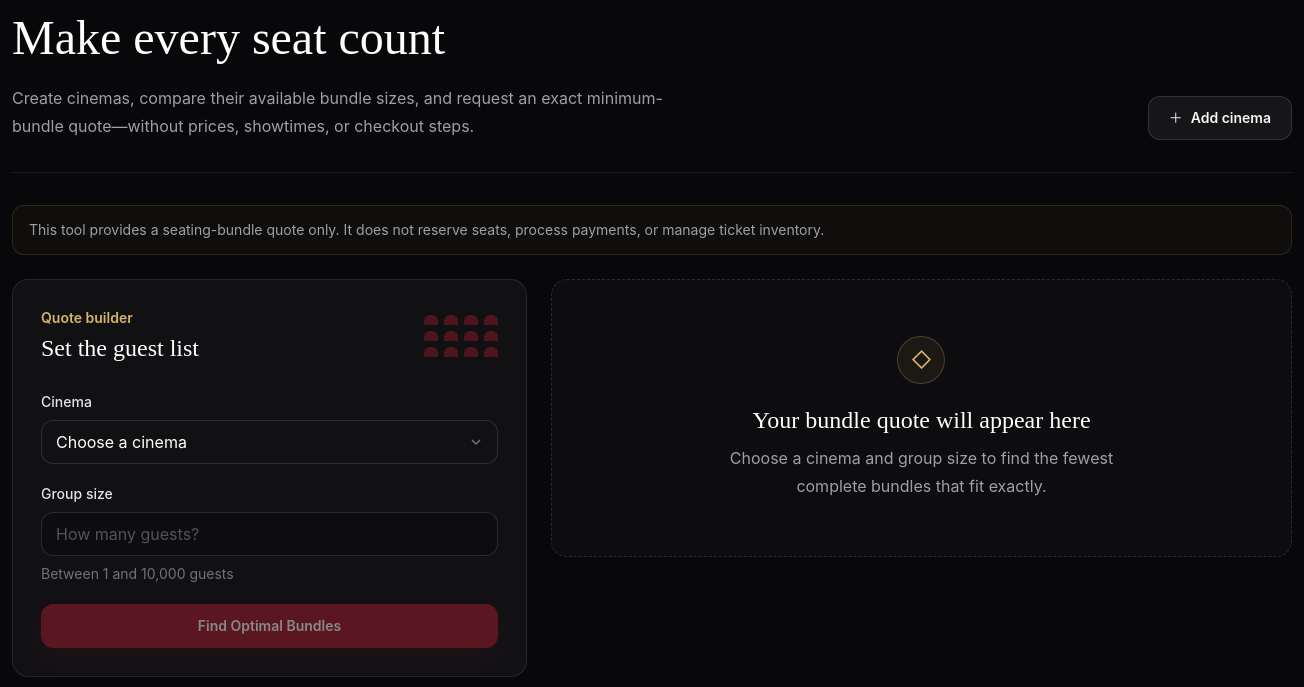
Test case: BookingPage › rejects an out-of-range group size before requesting a quote
Step 1. Select "Cinema A" in the dropdown labelled "Cinema" → (270, 442), box left=41, top=420, right=498, bottom=464
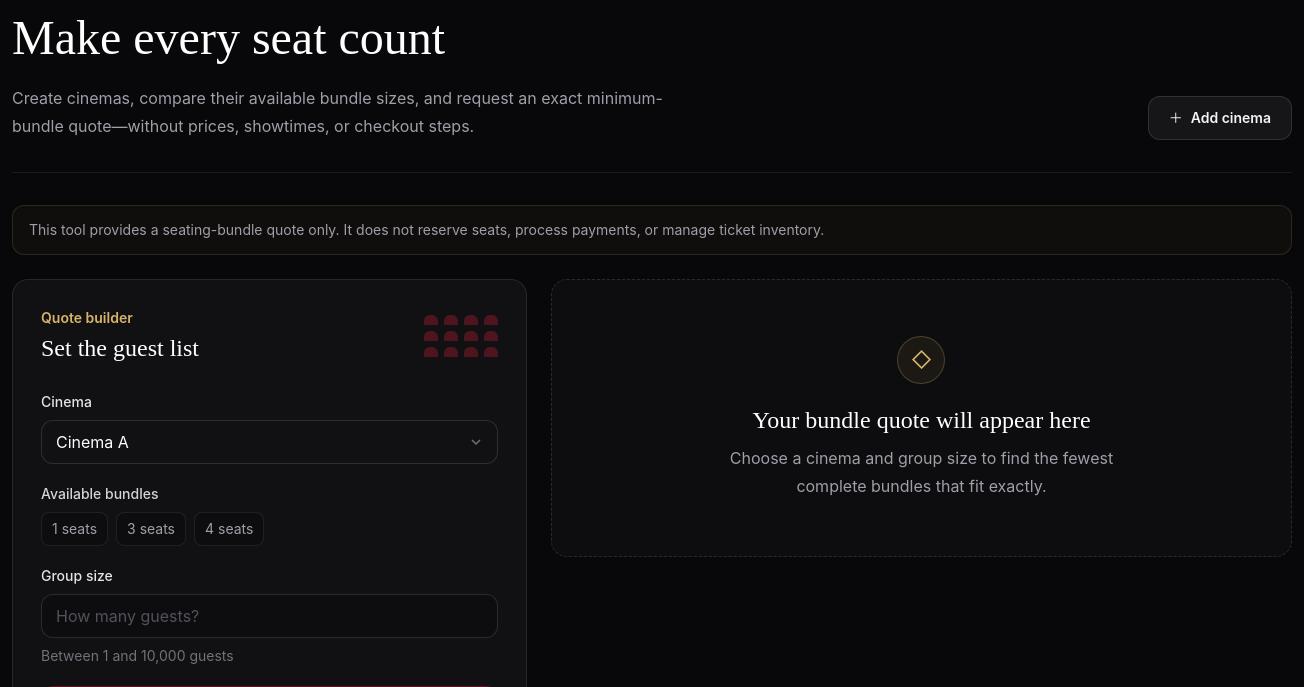
Step 2. Type "10001" into the number field labelled "Group size" → (270, 616), box left=41, top=594, right=498, bottom=638
(page scrolled)
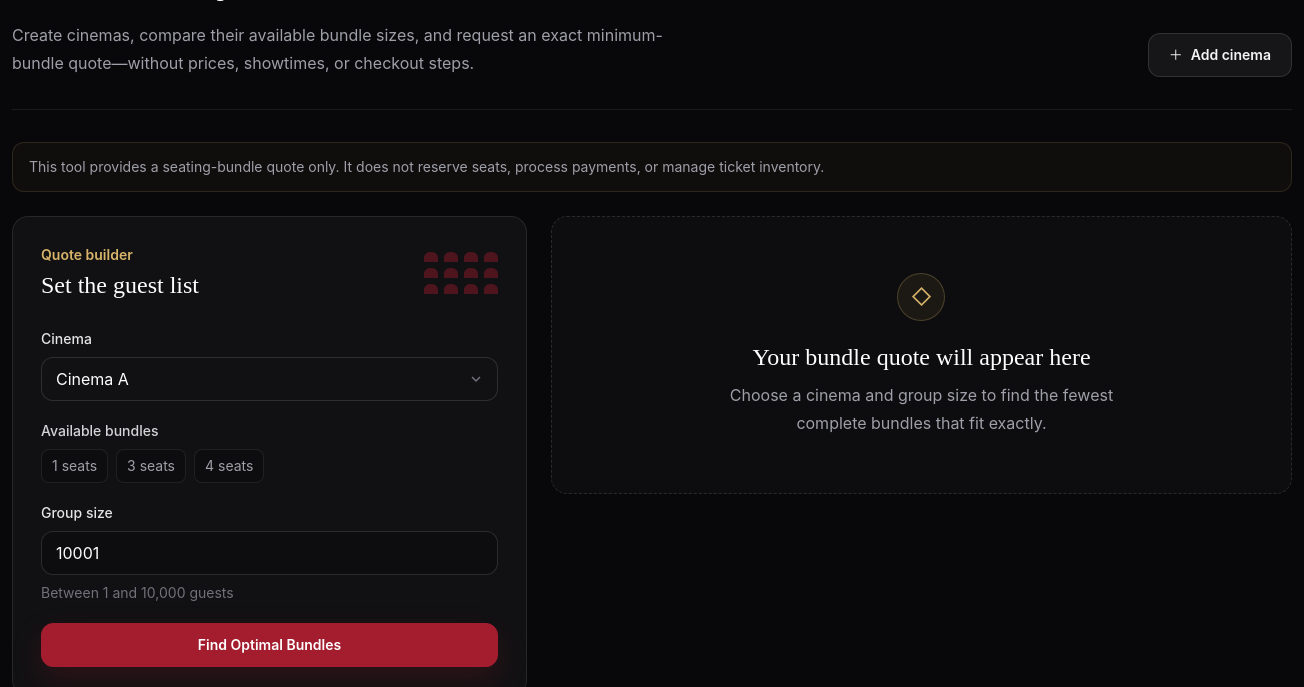
Step 3. Click the button "Find Optimal Bundles" → (270, 645), box left=41, top=623, right=498, bottom=667
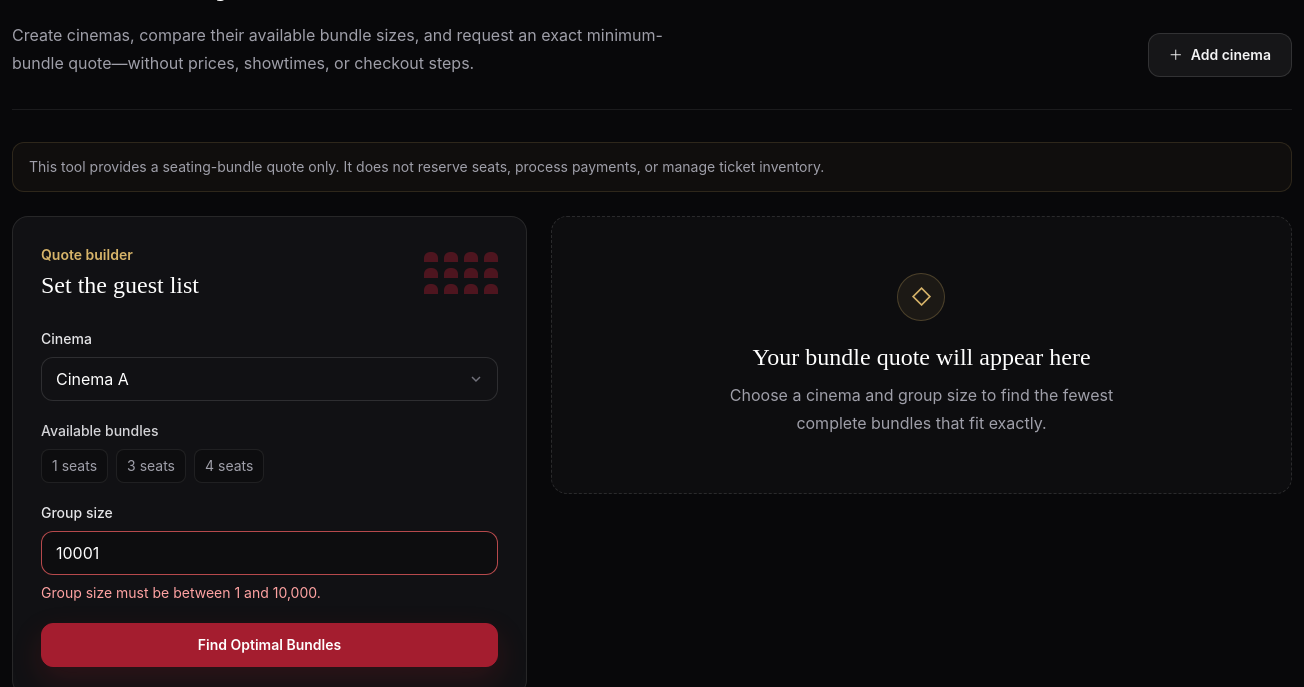
Check: the text "Group size must be between 1 and 10,000." is shown, box left=41, top=584, right=321, bottom=601
